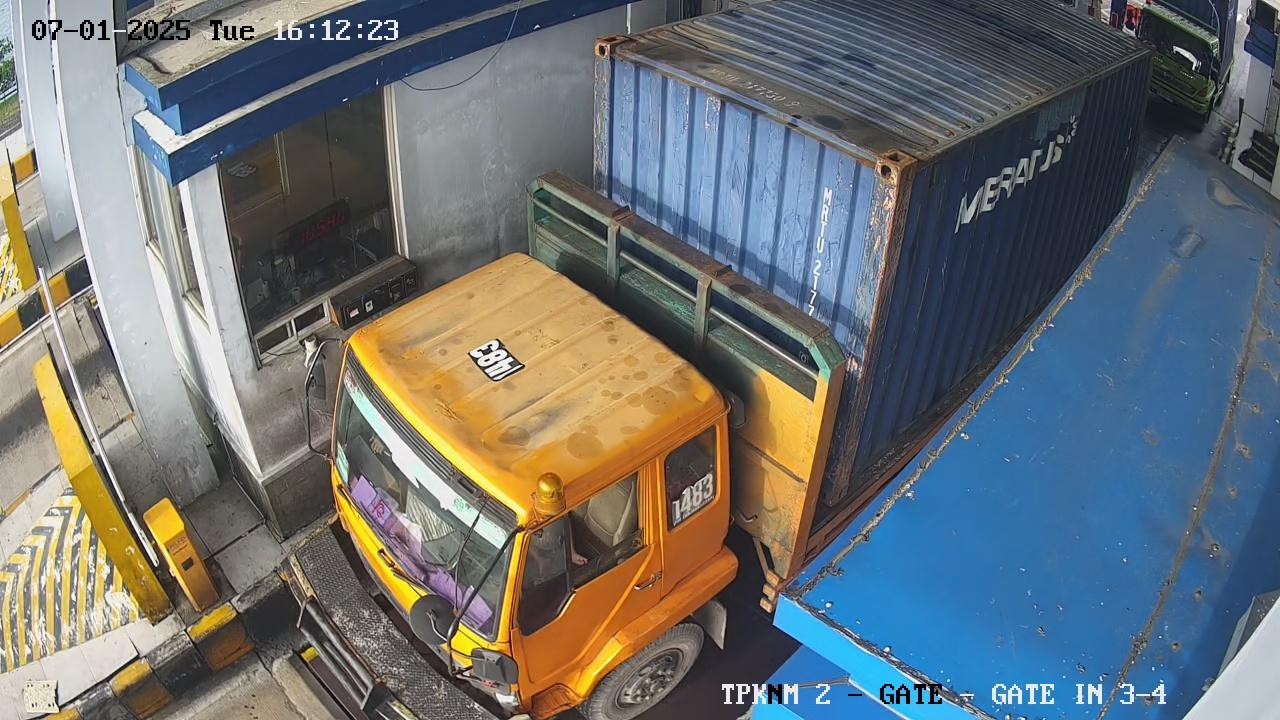Container_ID_Vertikal: (804, 188, 833, 316)
